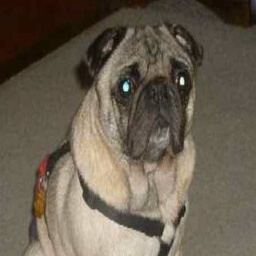dog: (30, 26, 205, 255)
